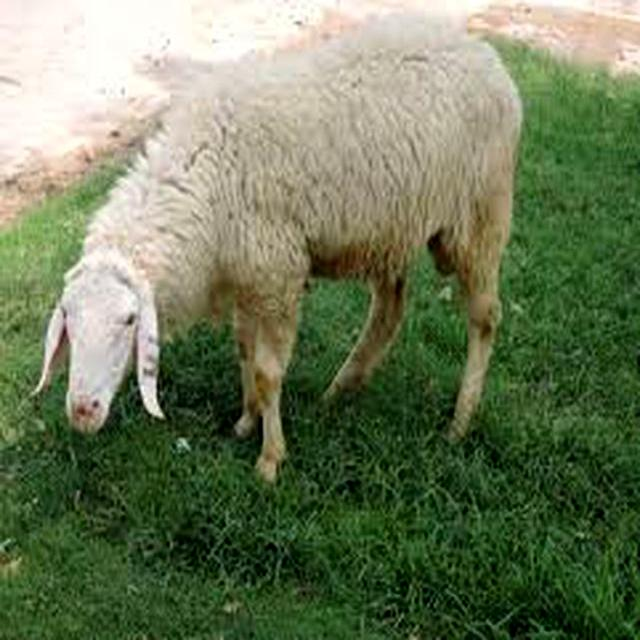sheep: (33, 28, 521, 482)
